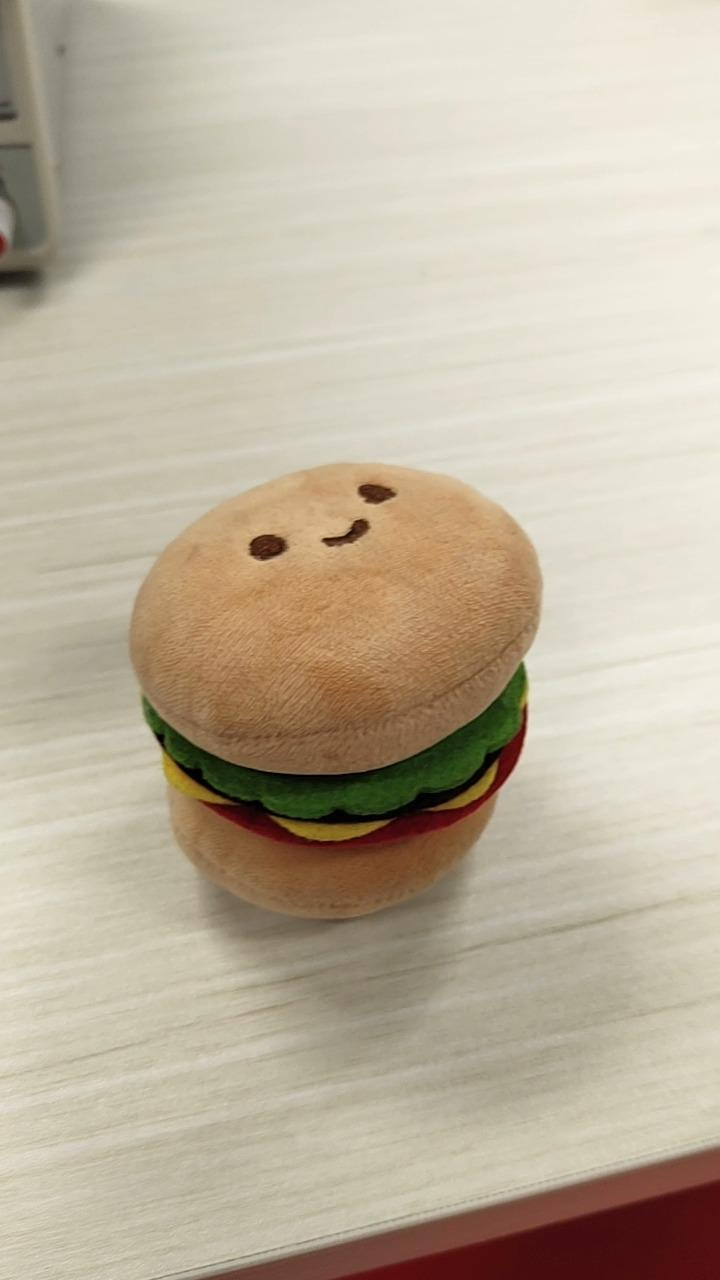hamburger: (127, 459, 543, 922)
